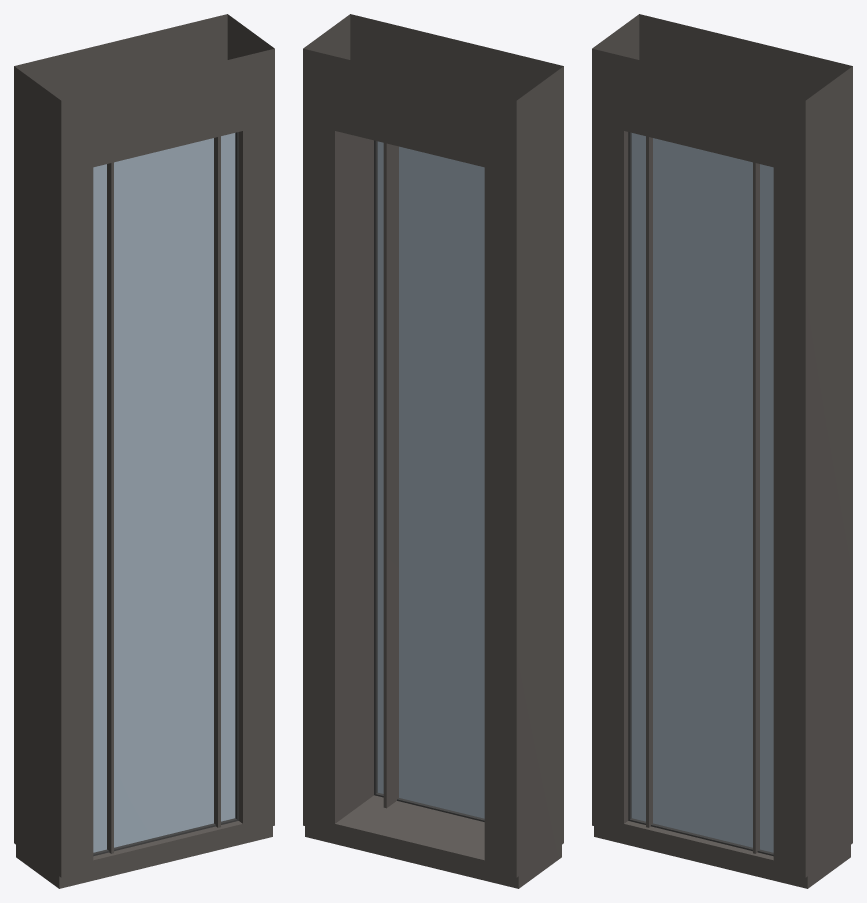
File: MMo_W_001_WD_a_3x10.fbx
3 views of the same model, side by side, from view 1: azimuth 30°, elevation 25°; view 2: azimuth 150°, elevation 25°; view 3: azimuth 330°, elevation 25° (orthographic).
Parts seen in each view (by area): view 1: MMo_W_001_WD_a_3x10, MMo_W_001_WD_a_3x10_glass; view 2: MMo_W_001_WD_a_3x10, MMo_W_001_WD_a_3x10_glass; view 3: MMo_W_001_WD_a_3x10, MMo_W_001_WD_a_3x10_glass.
Part boxes in pixels (x1=…): MMo_W_001_WD_a_3x10: x1=14, y1=14, x2=274, y2=888; MMo_W_001_WD_a_3x10_glass: x1=93, y1=133, x2=235, y2=852; MMo_W_001_WD_a_3x10: x1=303, y1=14, x2=563, y2=888; MMo_W_001_WD_a_3x10_glass: x1=377, y1=141, x2=484, y2=818; MMo_W_001_WD_a_3x10: x1=592, y1=14, x2=852, y2=888; MMo_W_001_WD_a_3x10_glass: x1=631, y1=133, x2=773, y2=852.
Bounding box in the file's own units: 3 × 10.6 × 1.15.
